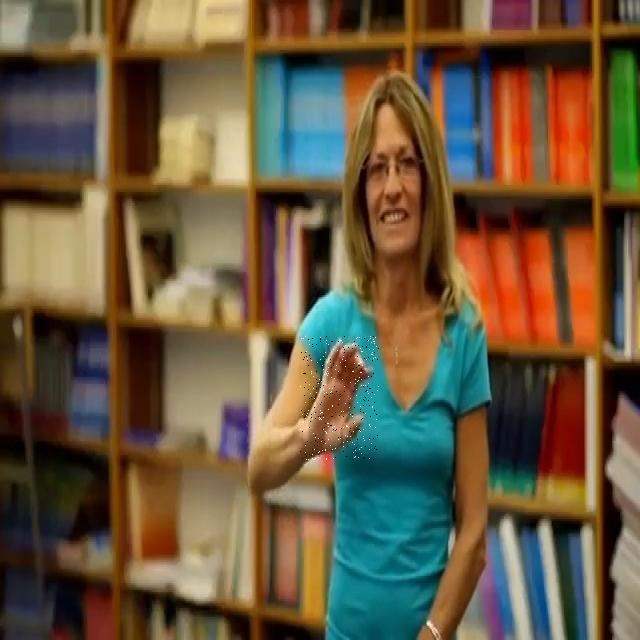pepper: (300, 336, 379, 460)
